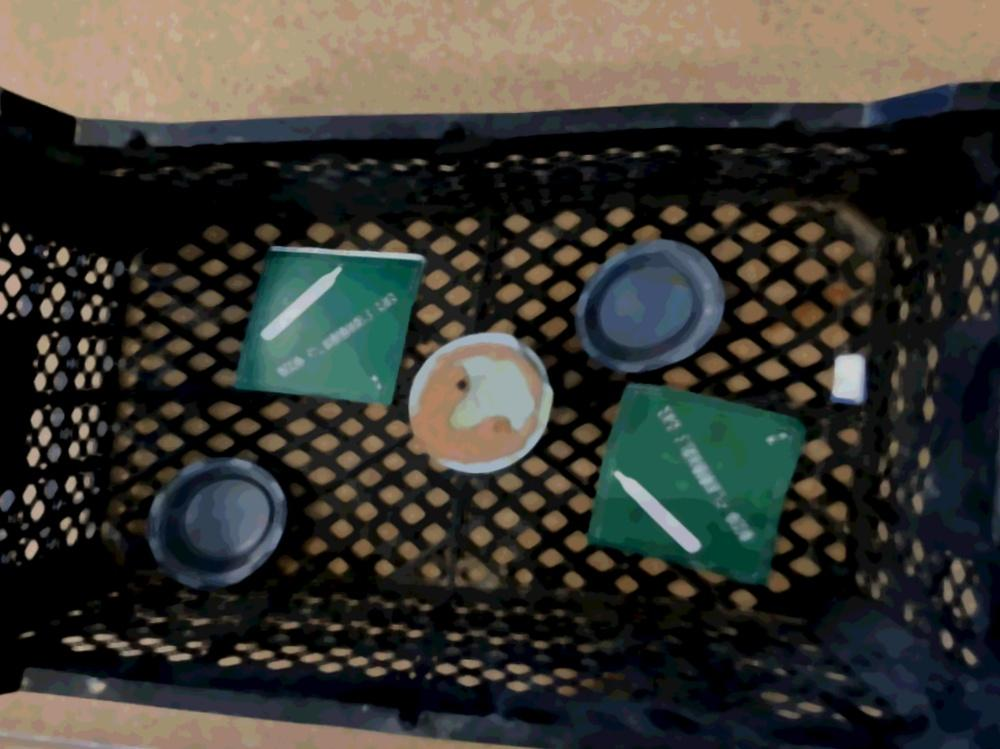non-flammable-gas: (583, 380, 813, 591), (228, 232, 432, 408)
